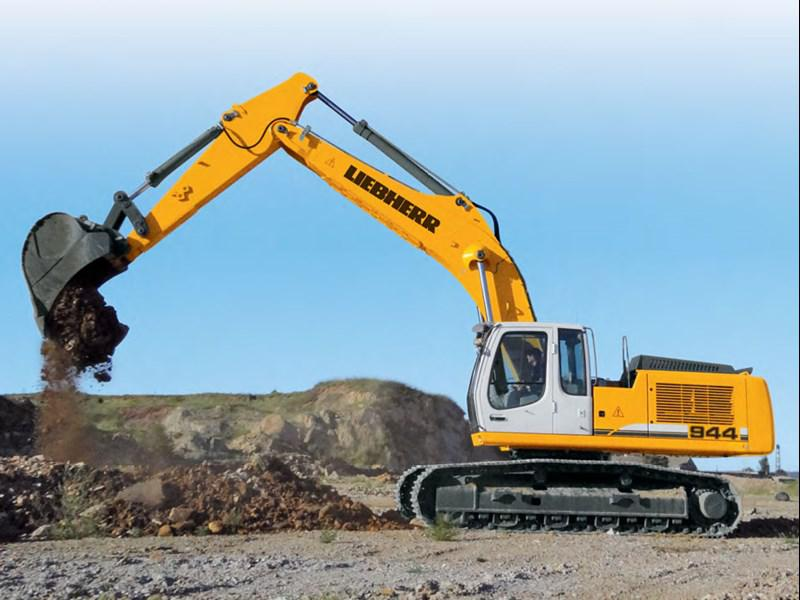shovel: (12, 69, 778, 543)
